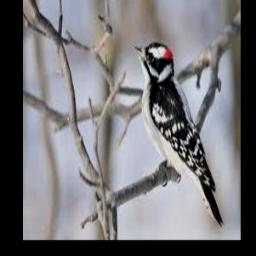Woodpecker: (132, 42, 224, 227)
